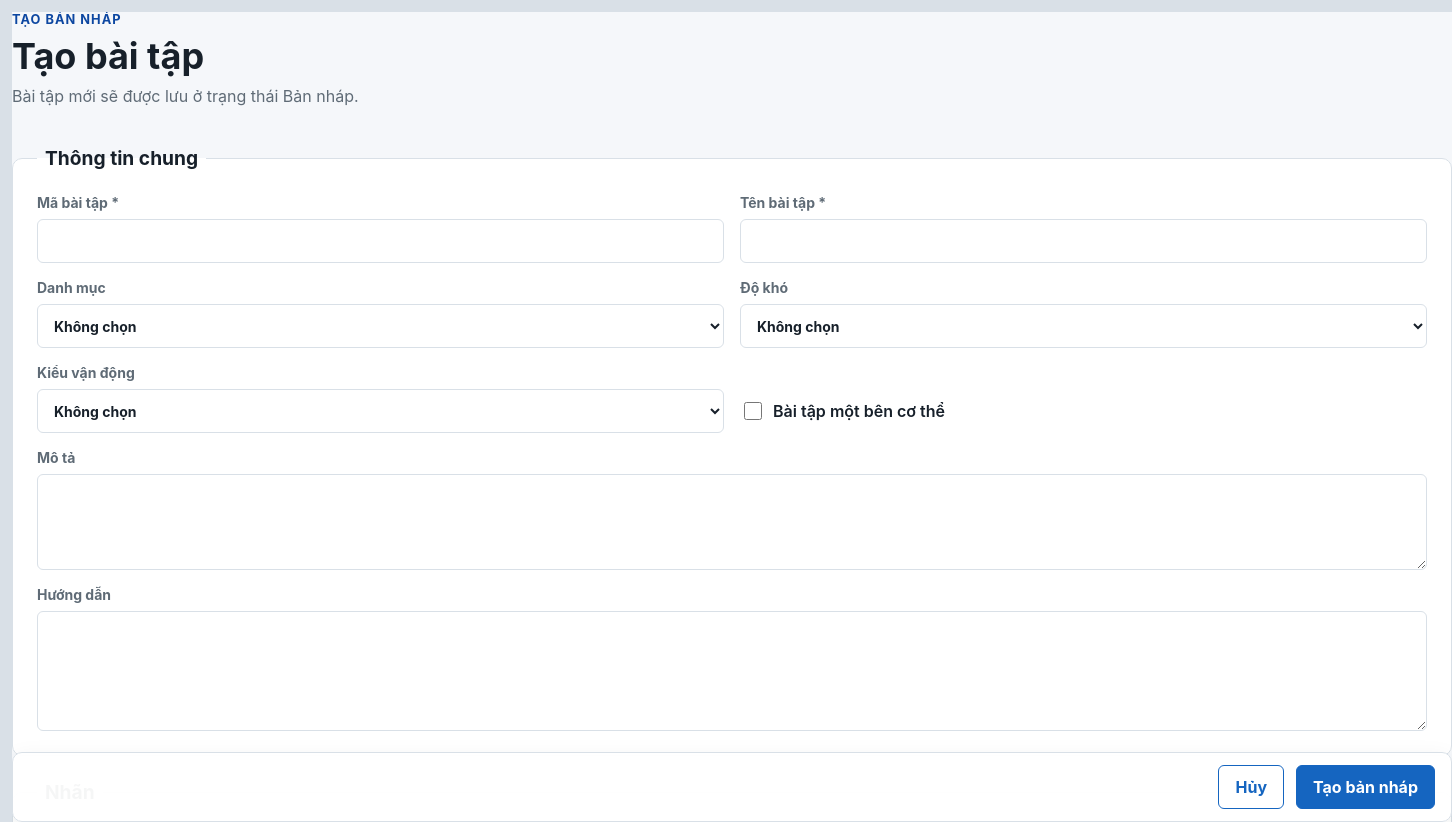
Scenario: exercise draft create and edit flows › keeps local input after a network mutation error with safe copy
Step 1. Type "LOCAL_DRAFT" into the field labelled "Mã bài tập *" → (380, 241), box [37,219,724,263]
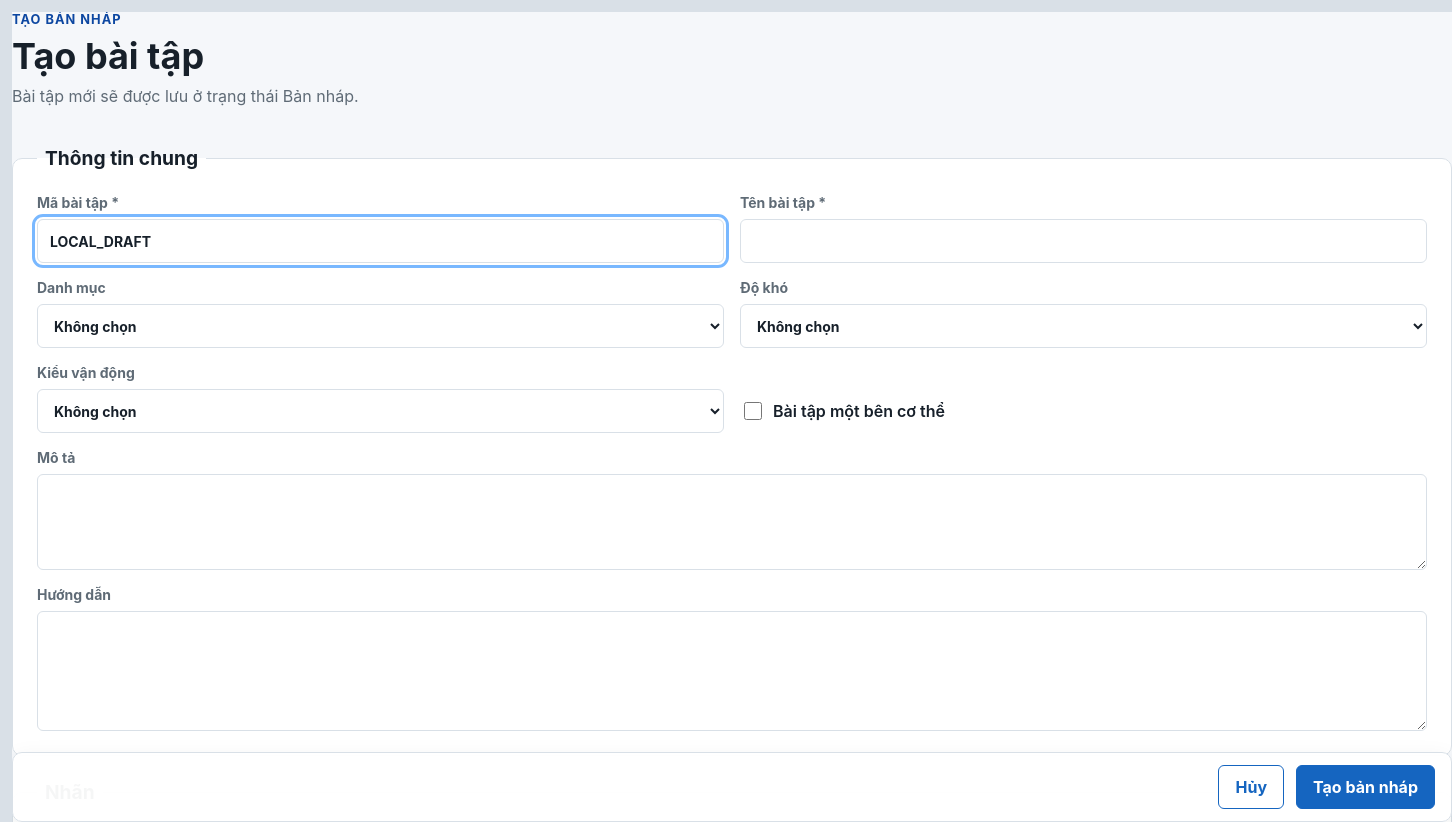
Step 2. Type "Local Draft" into the field labelled "Tên bài tập *" → (1084, 241), box [740,219,1427,263]
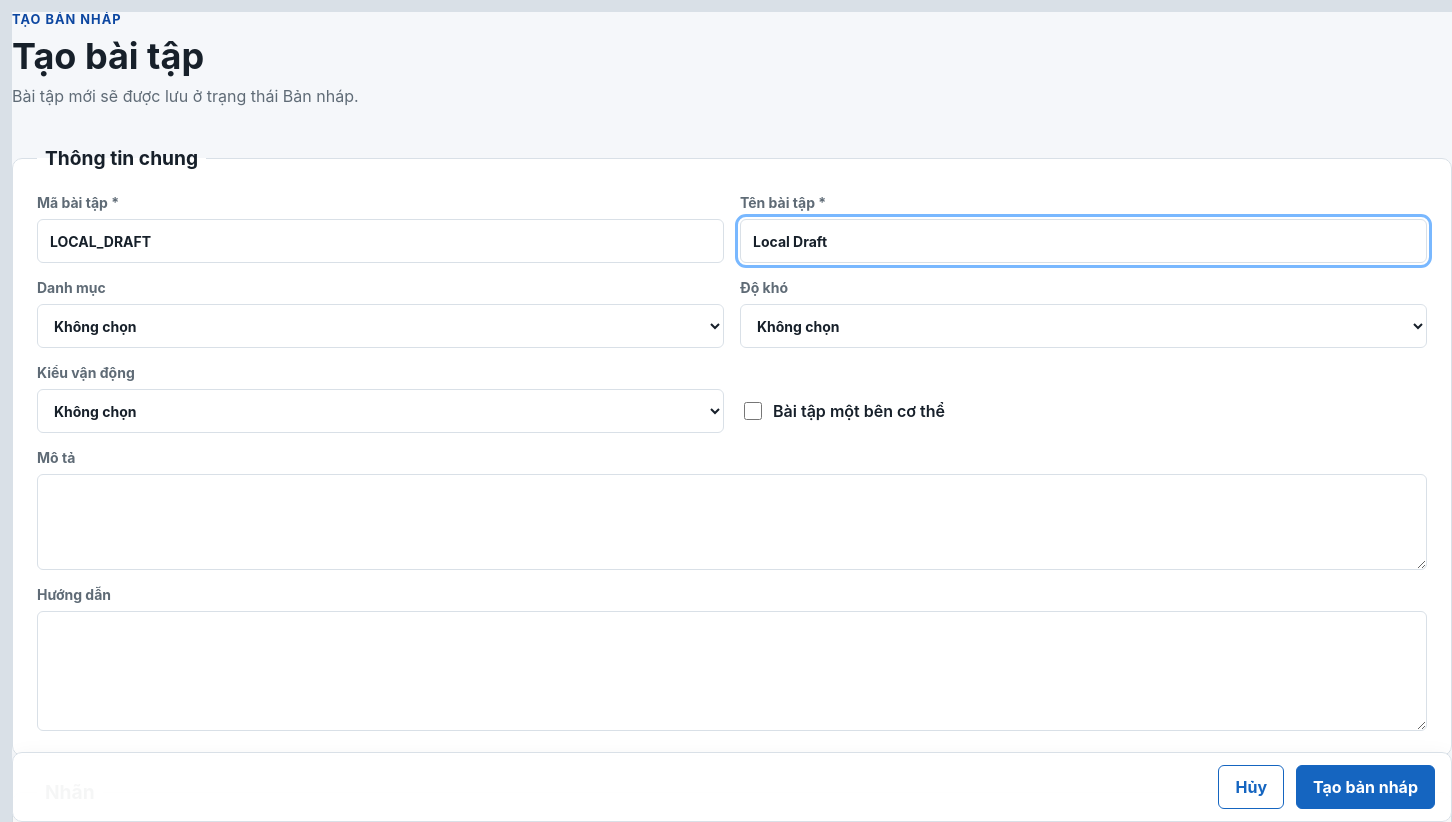
Step 3. Click the button "Tạo bản nháp" → (1366, 787), box [1296,765,1435,809]
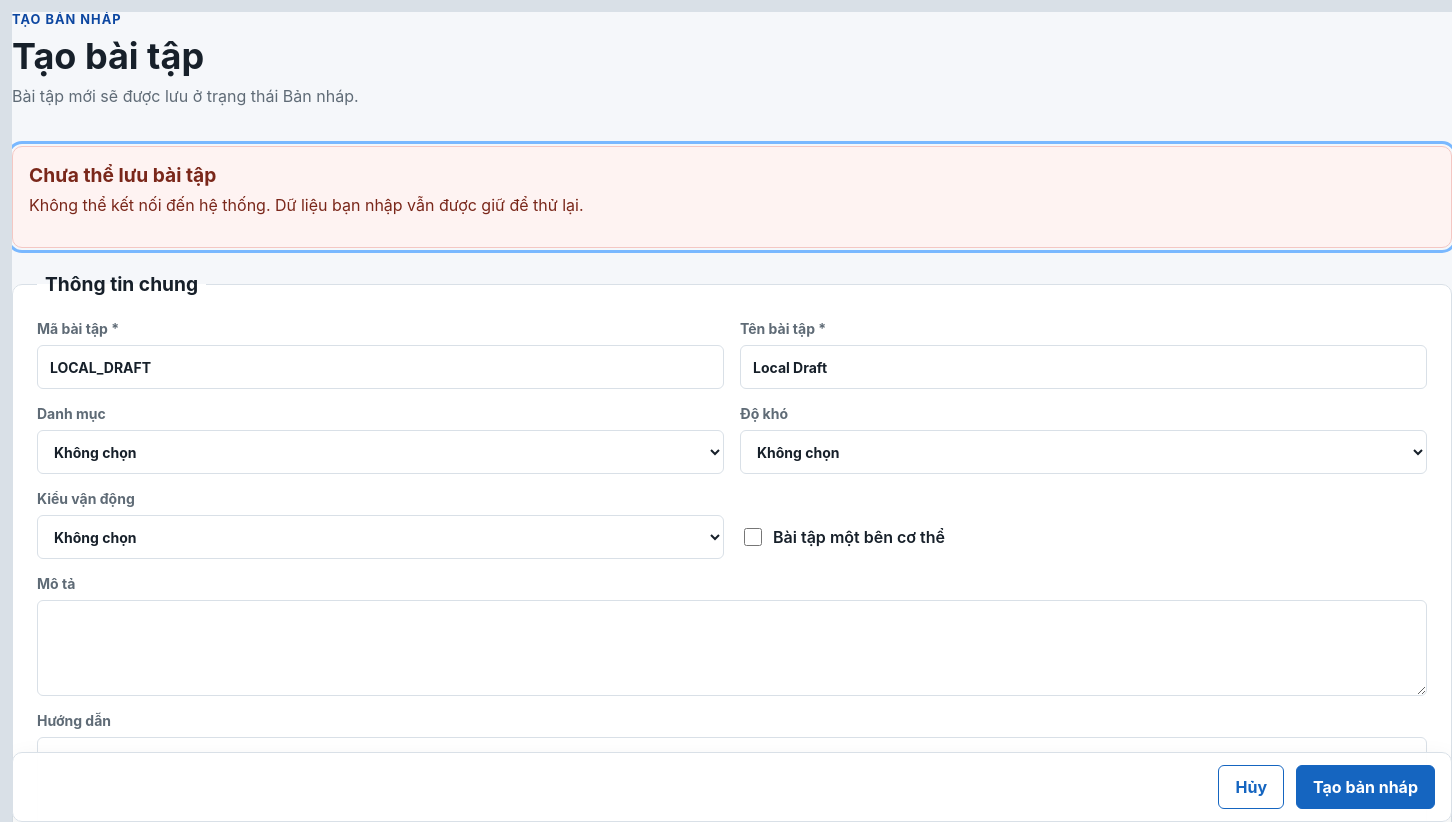
Expected: the text "Không thể kết nối đến hệ thống" is shown, [29,195,584,215]
